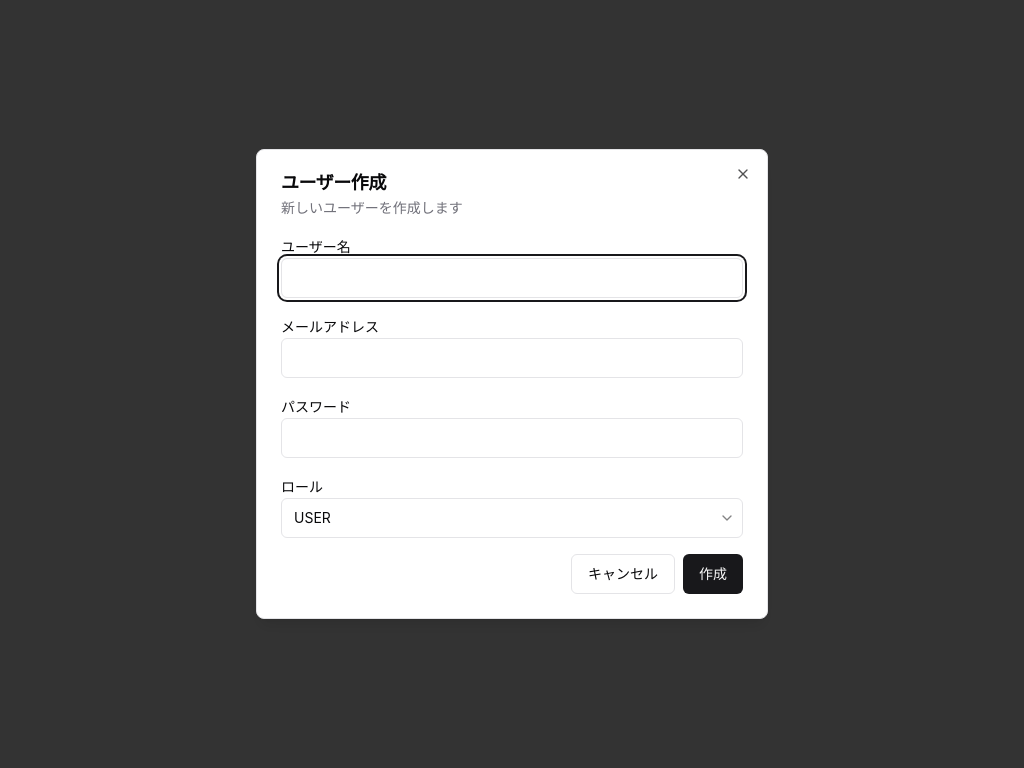
Test: UserFormDialog: 作成モード › username バリデーションエラーを表示する
Click the button "作成".
click(713, 574)  # box [683,554,743,594]
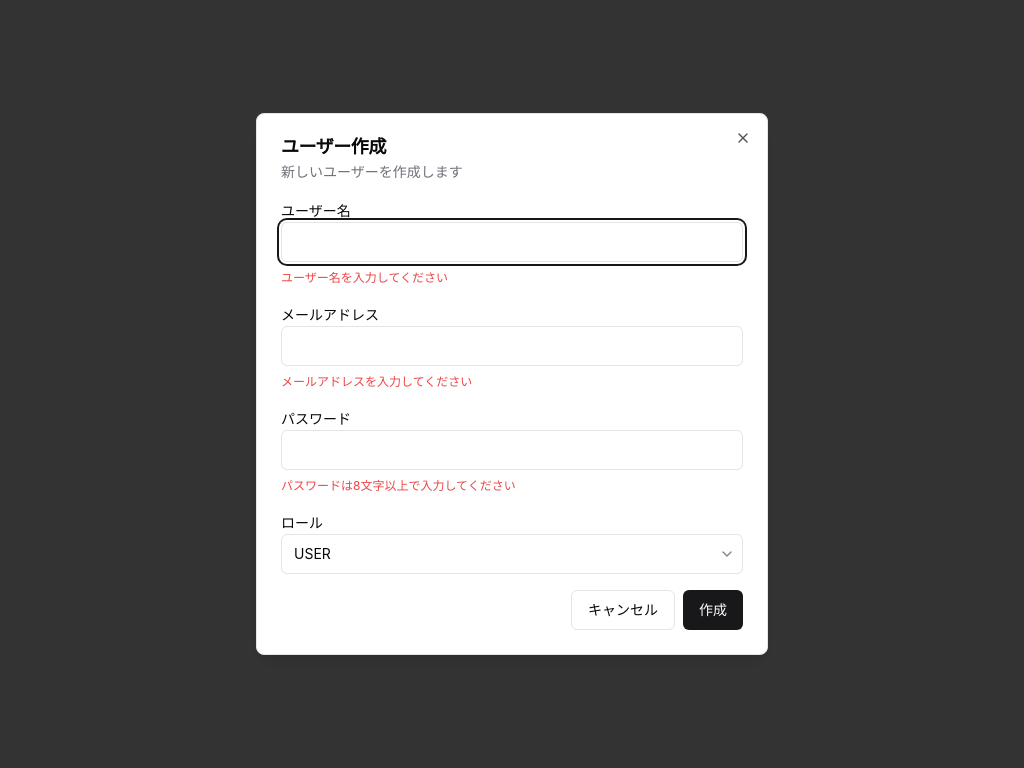
Expected: the text "ユーザー名を入力してください" is shown, [281,270,448,285]
